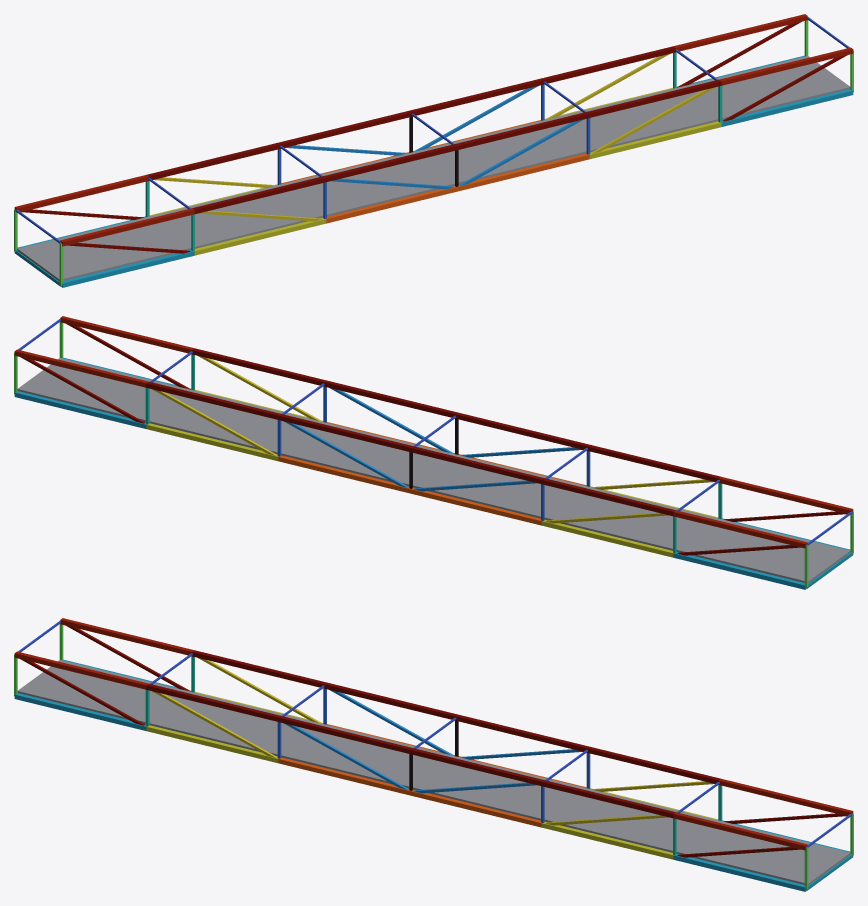
The model's file is 30_1.5_6_HEA160.glb.
3 views of the same model, one above another, from view 1: azimuth 30°, elevation 25°; view 2: azimuth 150°, elevation 25°; view 3: azimuth 330°, elevation 25° (orthographic).
Size of the model in its own units: 30.09 by 1.66 by 3.16.
